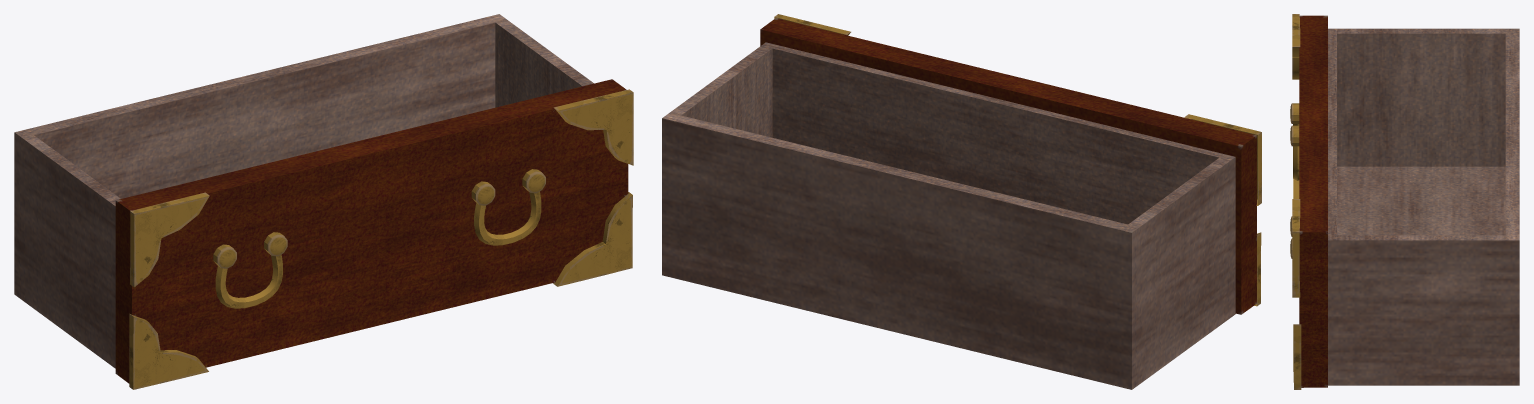
Rendered from library_loom_chest_obj.fbx.
The picture shows the model from 3 angles, left to right: view 1: azimuth 30°, elevation 25°; view 2: azimuth 150°, elevation 25°; view 3: azimuth 270°, elevation 25°; orthographic projection. The views are drawn at different scales.
Parts seen in each view (by area): view 1: bookcase.1-2_lo; view 2: bookcase.1-2_lo; view 3: bookcase.1-2_lo.
Part boxes in pixels (x1=…): bookcase.1-2_lo: x1=14, y1=14, x2=633, y2=389; bookcase.1-2_lo: x1=662, y1=14, x2=1261, y2=389; bookcase.1-2_lo: x1=1290, y1=14, x2=1519, y2=389.
Bounding box in the file's own units: 98.55 × 33.29 × 43.86.
